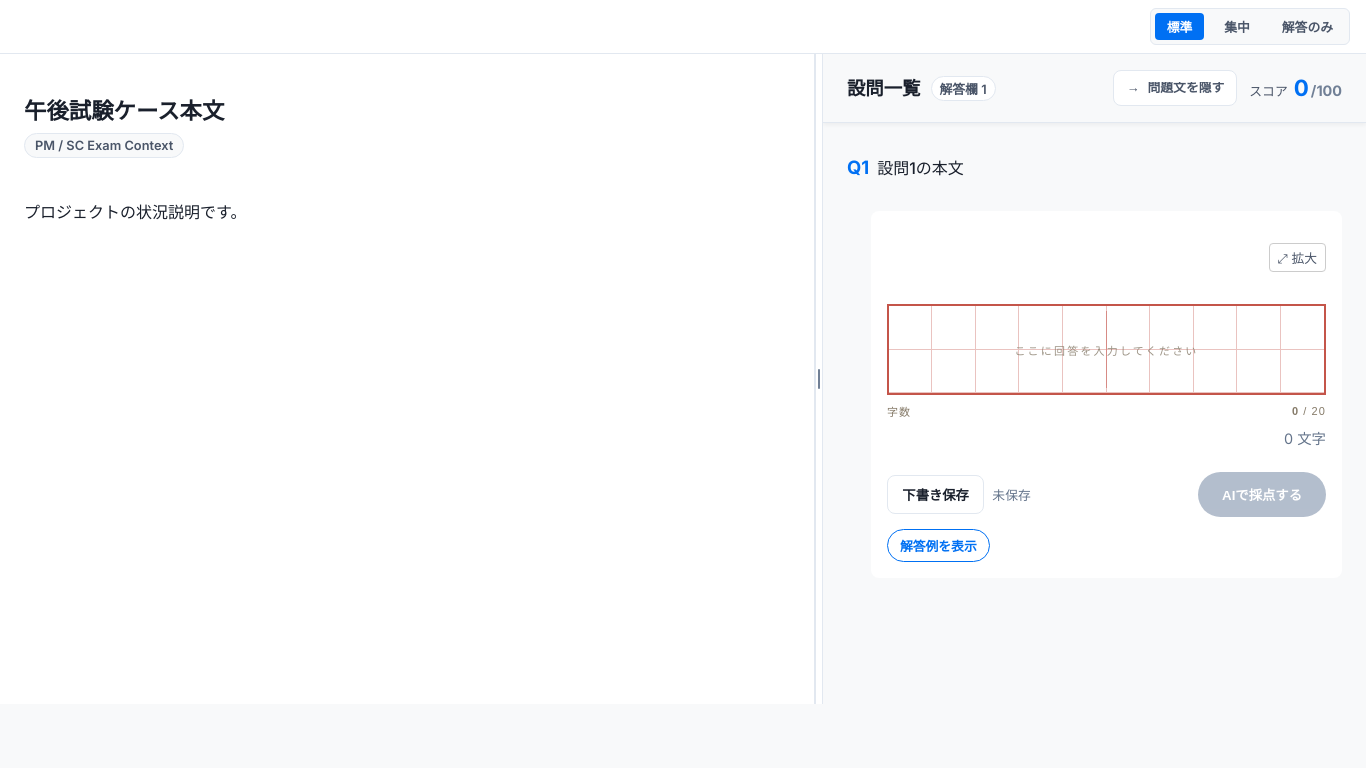
Test: SCPMExamView › 解答例の解説MarkdownをHTMLとして描画する
What coordinates should you click on to do the following:
click the button "解答例を表示"
I would click on:
 (938, 545)
Its box is [887, 529, 990, 562].
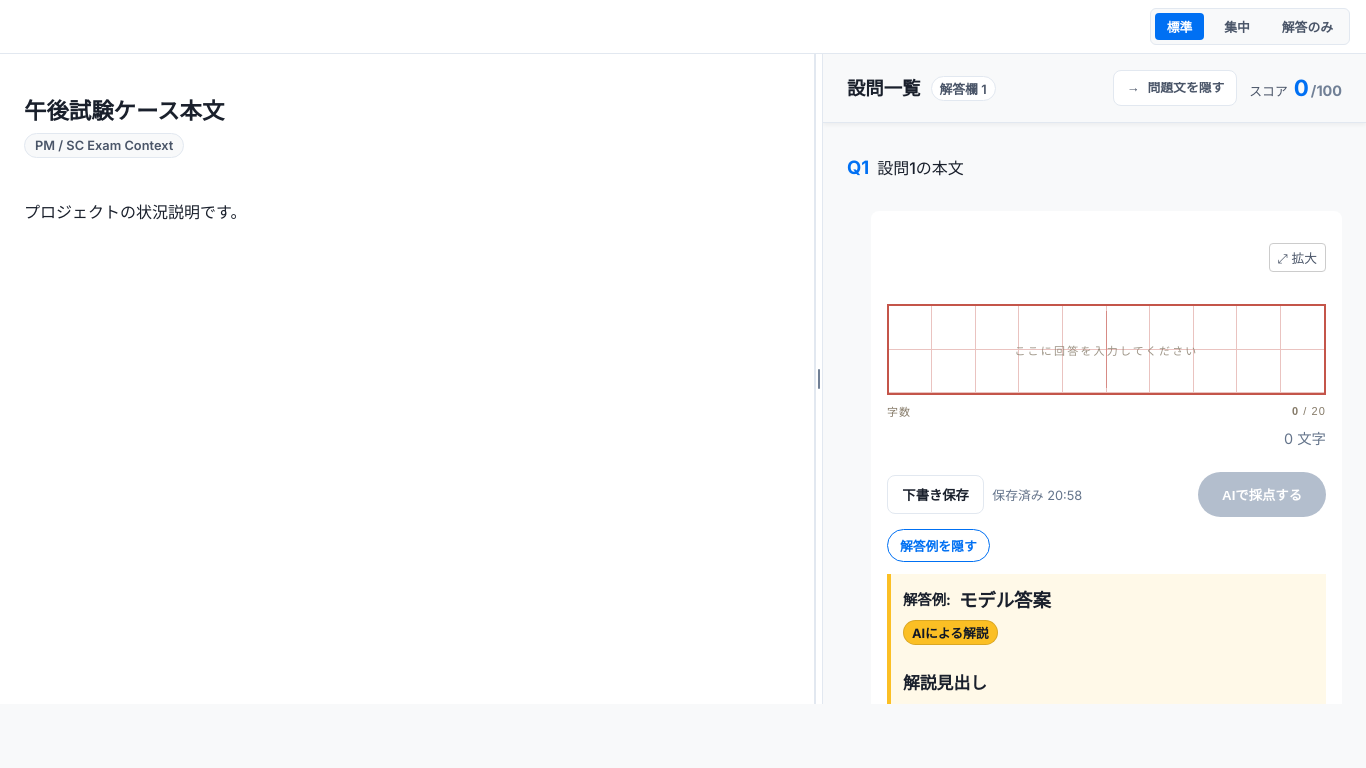
expect the heading "解説見出し" is shown: met, box [903, 673, 987, 693]
